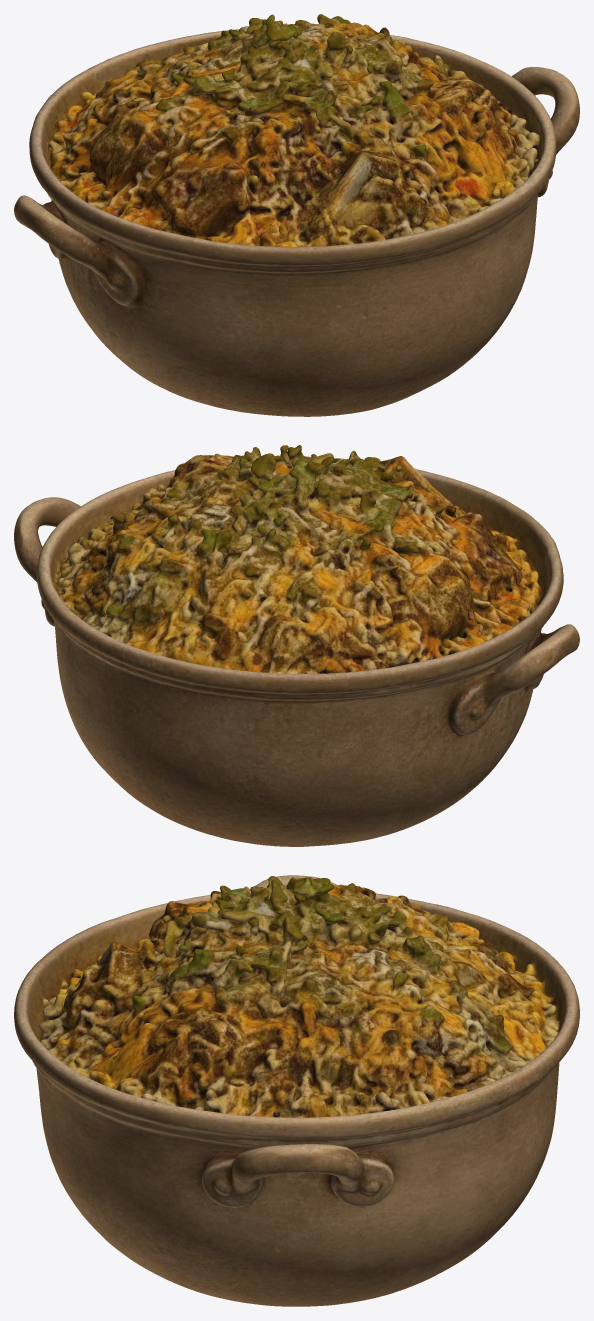
The model's file is Hyderabadi Biryani-compressed.glb.
The picture shows the model from 3 angles, top to bottom: view 1: azimuth 30°, elevation 25°; view 2: azimuth 150°, elevation 25°; view 3: azimuth 270°, elevation 25°; orthographic projection. The views are drawn at different scales.
Parts seen in each view (by area): view 1: world; view 2: world; view 3: world.
Boxes of the visible parts, box(x1,y1,x2,y2) form: world: box(14, 14, 579, 416); world: box(14, 445, 579, 846); world: box(14, 875, 579, 1306).
Bounding box in the file's own units: 1 × 0.6268 × 0.8495.
1 material, 1 textured.
